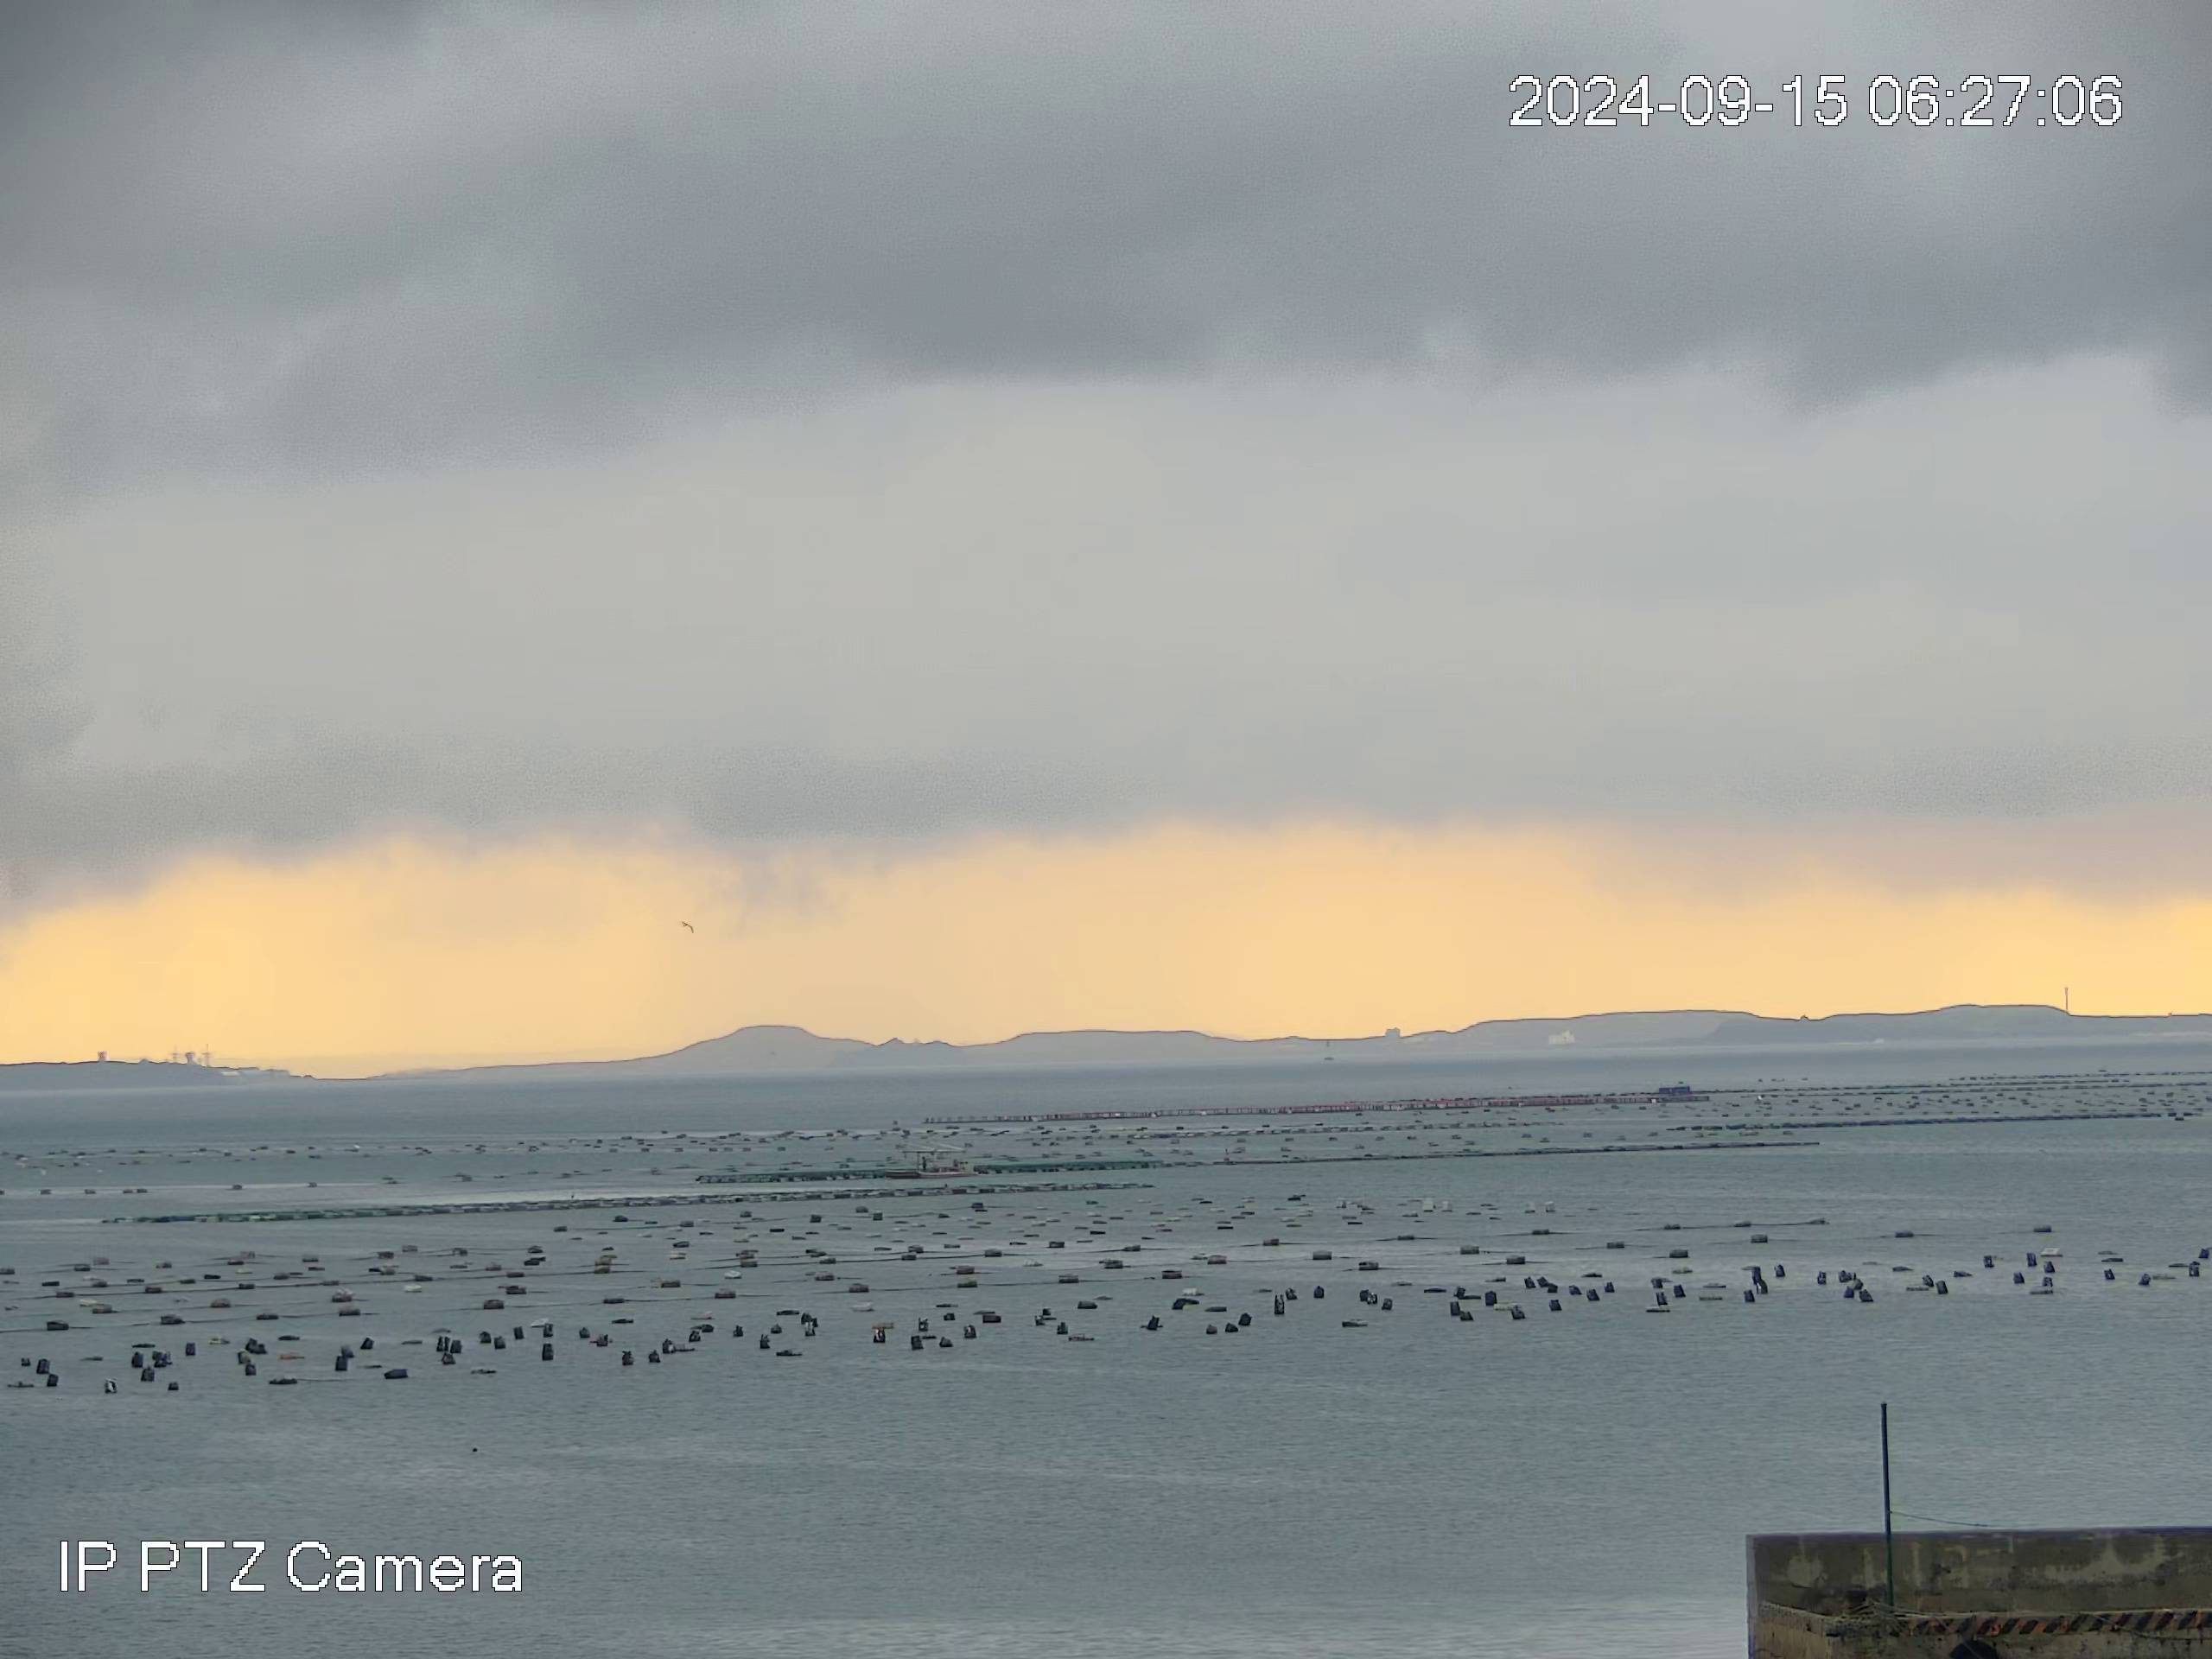boat: (896, 1135, 980, 1179)
